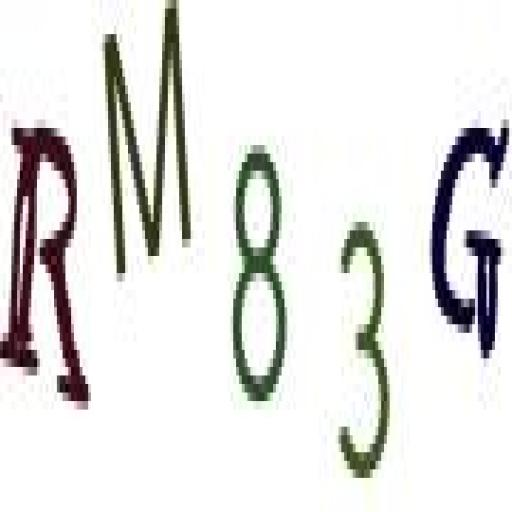3: (337, 205, 400, 498)
8: (224, 135, 290, 421)
G: (430, 100, 512, 380)
M: (100, 7, 191, 286)
R: (0, 99, 94, 419)
